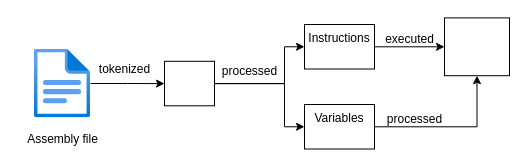
This 527x167 diagram has some shape labels left out. Here are the shapes that lost their labels. From the top down, the box of each, then its label:
(444, 17, 510, 76): stack
(164, 60, 214, 106): Tokens
